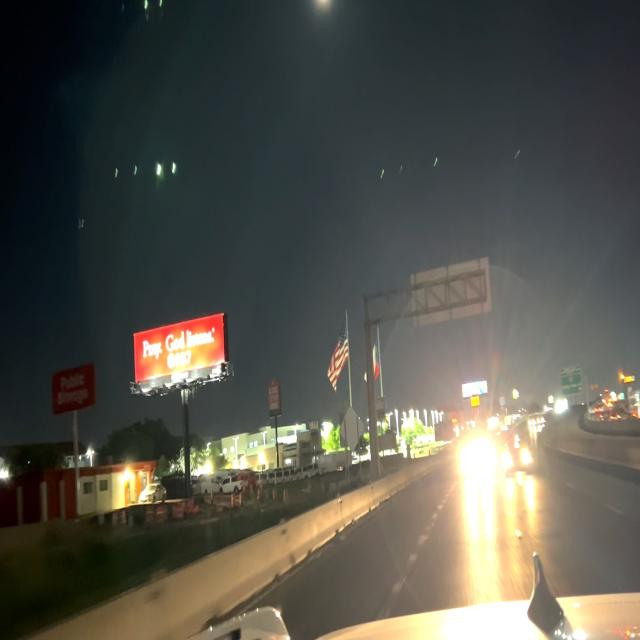back-of-sign: (407, 254, 493, 334), (336, 404, 367, 456)
